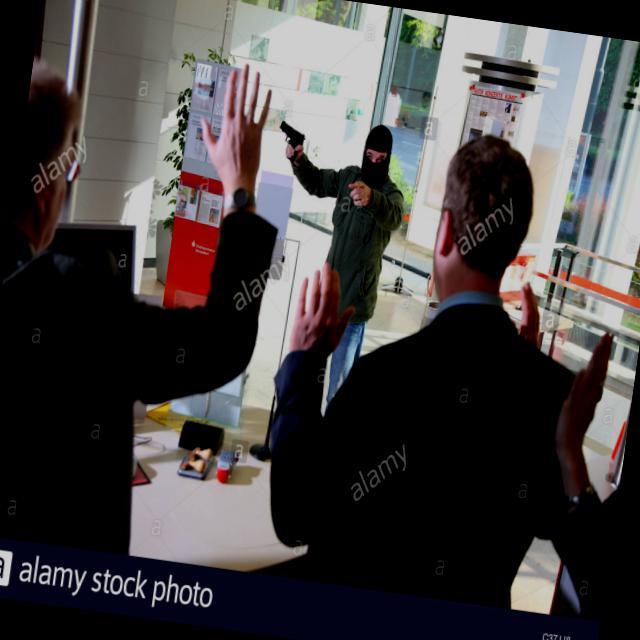handgun: (274, 119, 308, 163)
